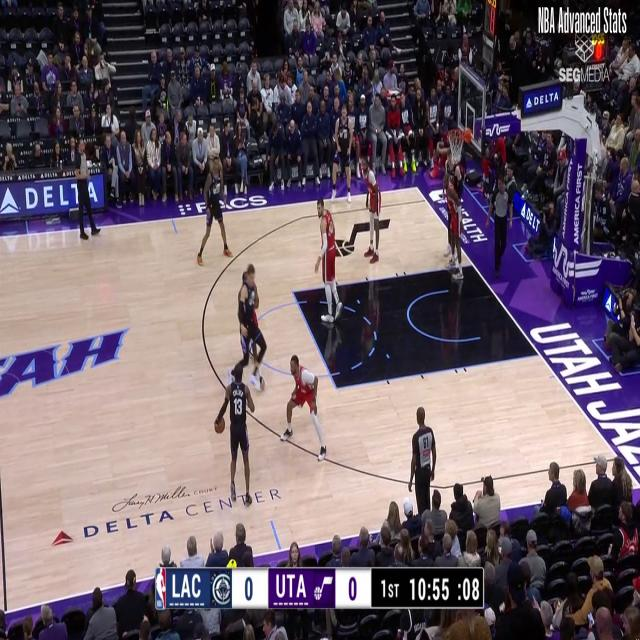ball: (210, 412, 228, 438)
judge: (73, 134, 103, 244), (410, 410, 437, 506), (489, 172, 511, 274)
player: (212, 362, 255, 505), (282, 356, 324, 460), (196, 158, 232, 261), (236, 266, 267, 385), (313, 200, 341, 322), (440, 173, 465, 291), (440, 150, 464, 260), (330, 102, 354, 204), (361, 159, 381, 264)
